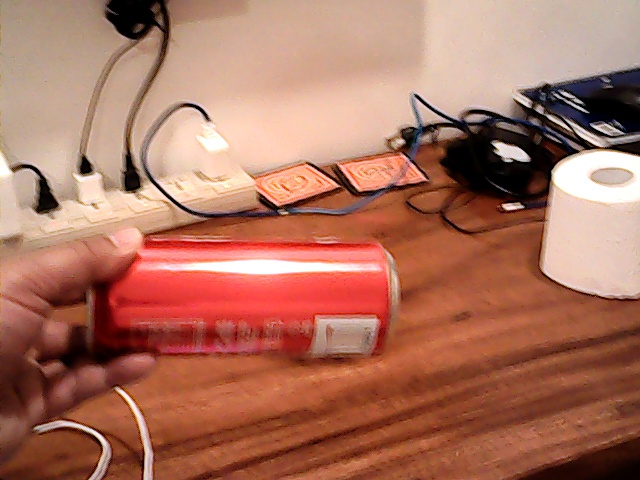Cola: (80, 237, 388, 361)
